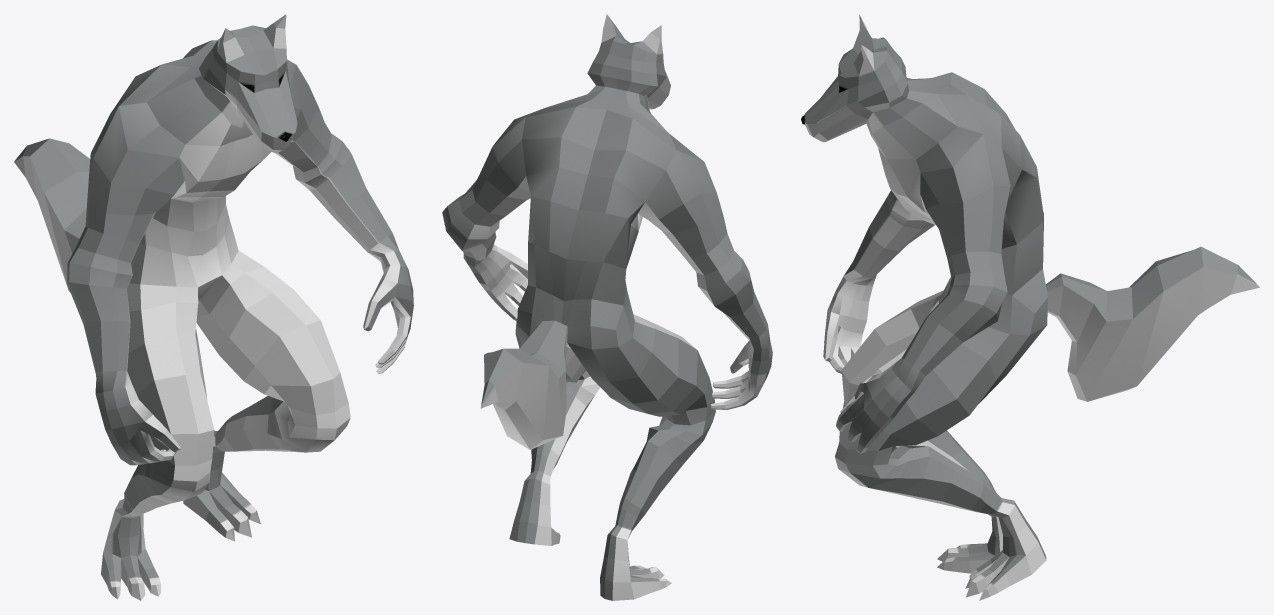
File: WolfWalk(17).obj
The picture shows the model from 3 angles, left to right: view 1: azimuth 30°, elevation 25°; view 2: azimuth 150°, elevation 25°; view 3: azimuth 270°, elevation 25°; orthographic projection. The views are drawn at different scales.
Parts seen in each view (by area): view 1: Box001; view 2: Box001; view 3: Box001.
Part boxes in pixels (box(x1,y1,x2,y2)): Box001: box(14, 14, 413, 600); Box001: box(442, 14, 772, 600); Box001: box(801, 14, 1259, 600).
Bounding box in the file's own units: 78.82 × 135 × 99.38.
